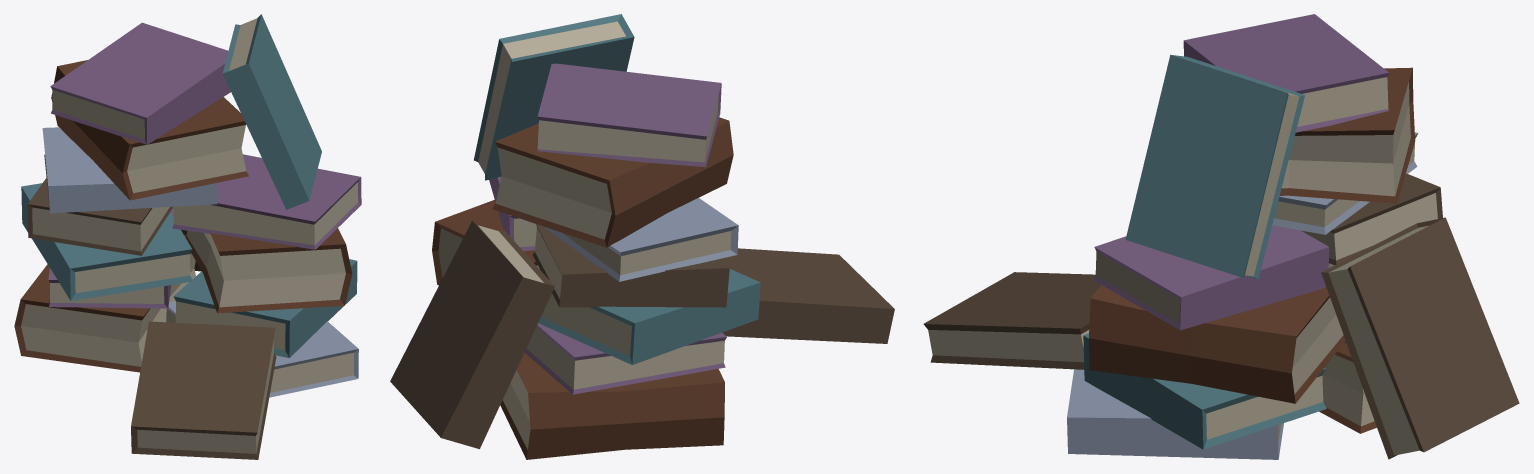
File: Book_Pile_Large.gltf
3 renders of one model, left to right at view 1: azimuth 30°, elevation 25°; view 2: azimuth 150°, elevation 25°; view 3: azimuth 270°, elevation 25°, orthographic. The views are drawn at different scales.
Visible parts, largest first — view 1: Book_Pile_Large2; view 2: Book_Pile_Large2; view 3: Book_Pile_Large2.
Boxes of the visible parts, bbox=[...] form: Book_Pile_Large2: bbox=[14, 14, 361, 459]; Book_Pile_Large2: bbox=[390, 14, 894, 459]; Book_Pile_Large2: bbox=[923, 14, 1519, 459].
Bounding box in the file's own units: 0.2009 × 0.1907 × 0.2841.
1 material, 1 textured.
